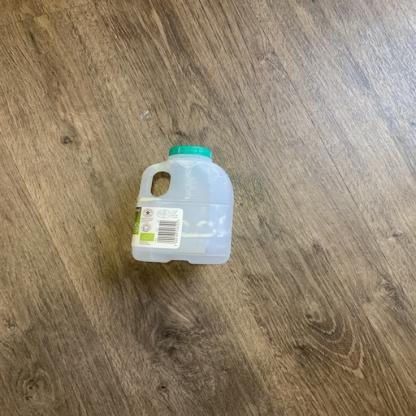trash: (128, 145, 234, 268)
